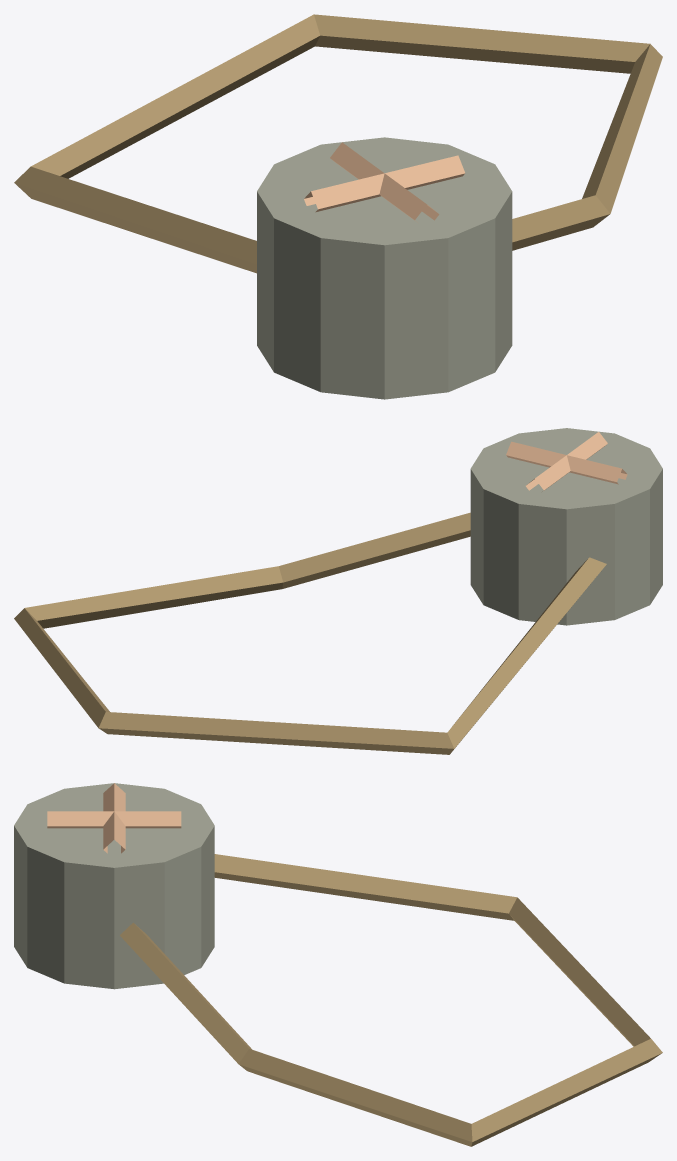
3 renders of one model, top to bottom at view 1: azimuth 30°, elevation 25°; view 2: azimuth 150°, elevation 25°; view 3: azimuth 270°, elevation 25°, orthographic. The views are drawn at different scales.
Visible parts, largest first — view 1: BA-0039 batched; view 2: BA-0039 batched; view 3: BA-0039 batched.
Part boxes in pixels (x1,y1,x2,y2): BA-0039 batched: (14, 14, 662, 399); BA-0039 batched: (14, 428, 662, 754); BA-0039 batched: (14, 783, 662, 1146).
Size of the model in its own units: 0.251 by 0.073 by 0.2909.
